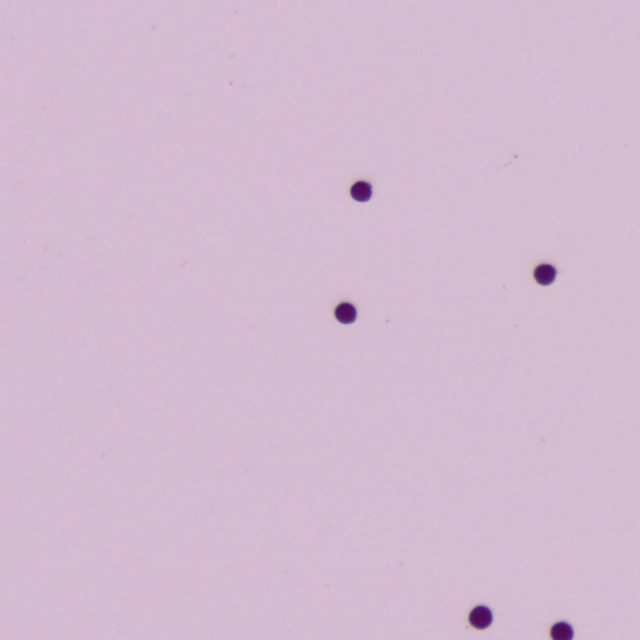viable: (470, 606, 492, 629), (534, 264, 556, 285), (335, 303, 356, 324), (351, 182, 372, 201), (551, 622, 573, 639)
